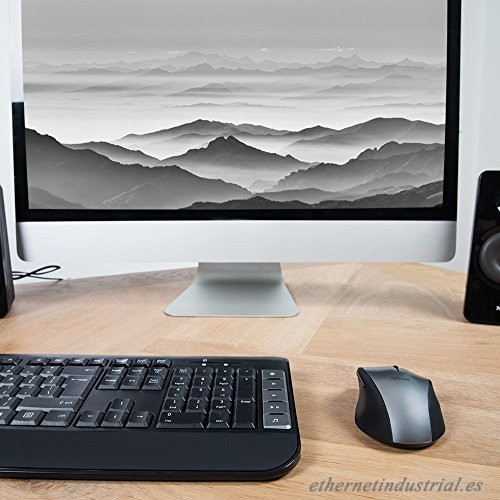Teclado: (1, 351, 302, 484)
